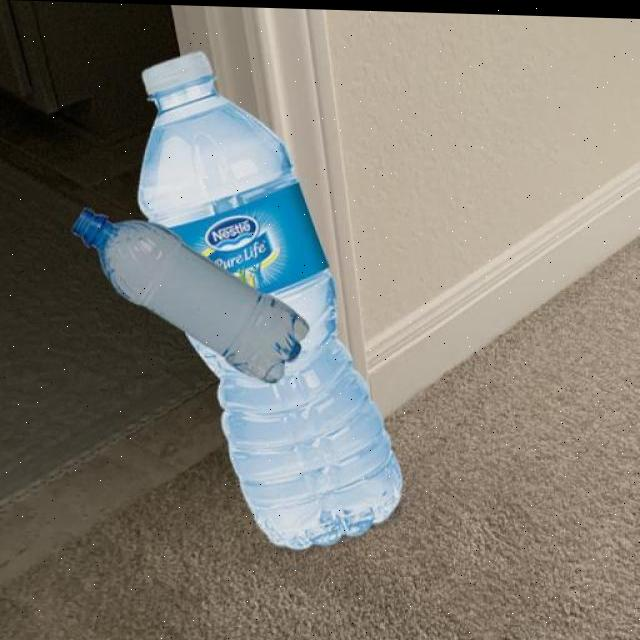bottle: (72, 44, 406, 551), (69, 204, 309, 383)
